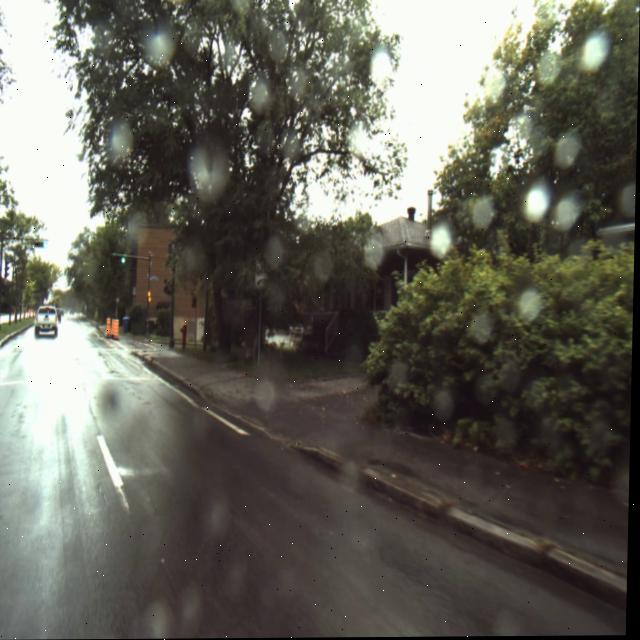car: (35, 305, 59, 339)
trafficLight: (148, 290, 154, 304)
trafficLight-Green: (122, 256, 128, 265), (42, 241, 50, 247)
